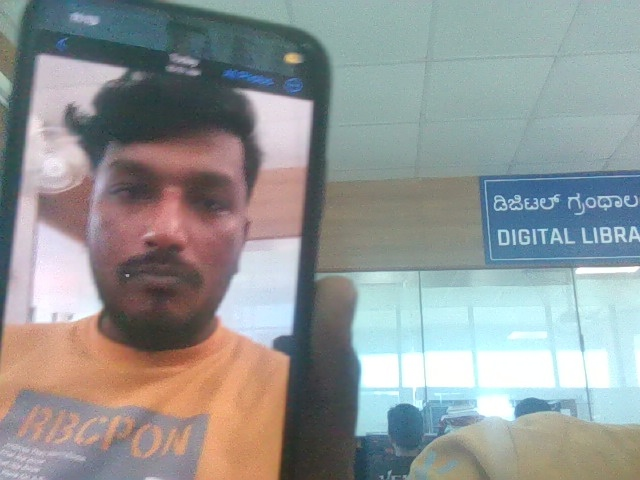fake: (57, 39, 279, 353)
